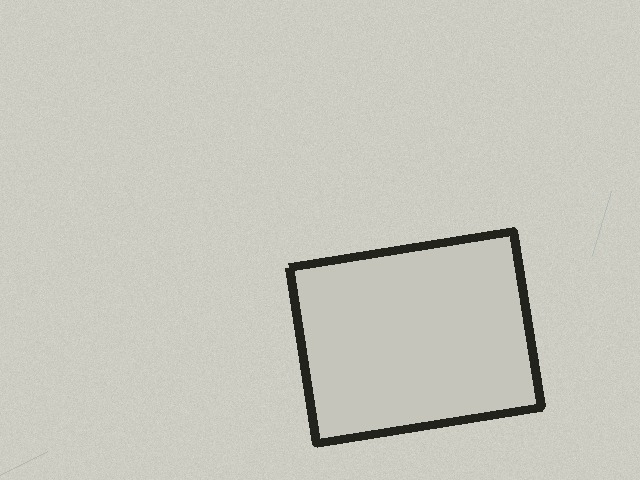parking_area: (289, 231, 541, 443)
